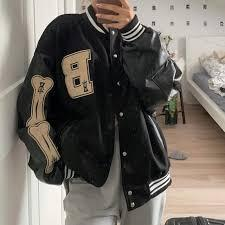jacket: (12, 9, 187, 212)
